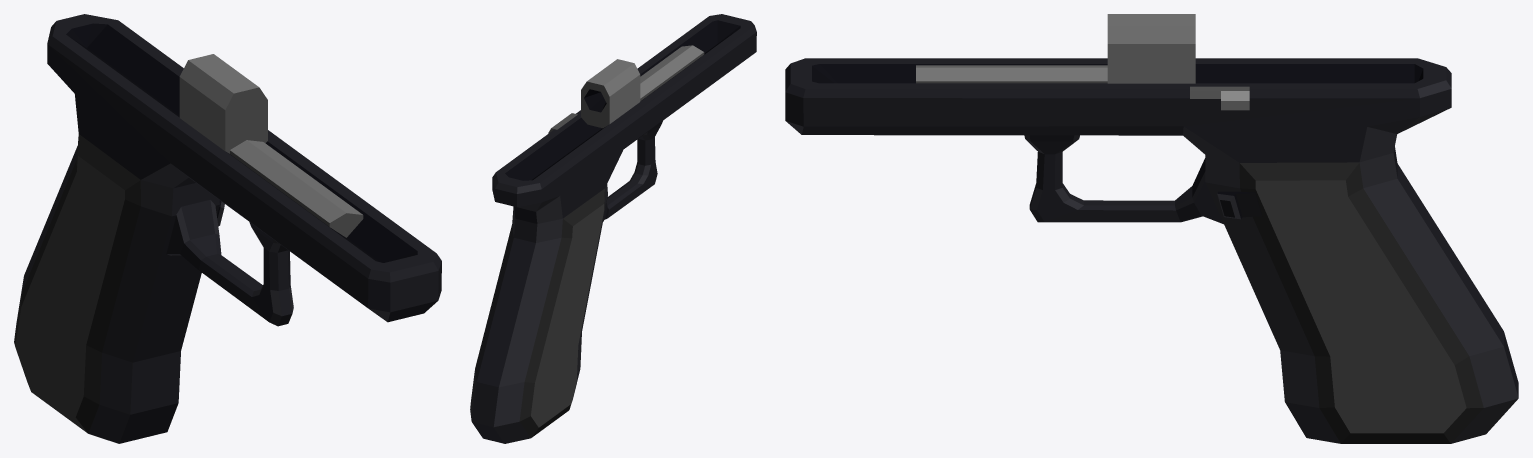
Rendered from MW1_Platform_9mm_01.fbx.
The picture shows the model from 3 angles, left to right: view 1: azimuth 30°, elevation 25°; view 2: azimuth 150°, elevation 25°; view 3: azimuth 270°, elevation 25°; orthographic projection. The views are drawn at different scales.
Visible parts, largest first — view 1: Platform_9mm_01; view 2: Platform_9mm_01; view 3: Platform_9mm_01.
Part boxes in pixels (<box>): Platform_9mm_01: <box>14,14,441,443</box>; Platform_9mm_01: <box>470,14,756,443</box>; Platform_9mm_01: <box>785,14,1518,443</box>.
Size of the model in its own units: 3.16 by 14.25 by 23.29.
